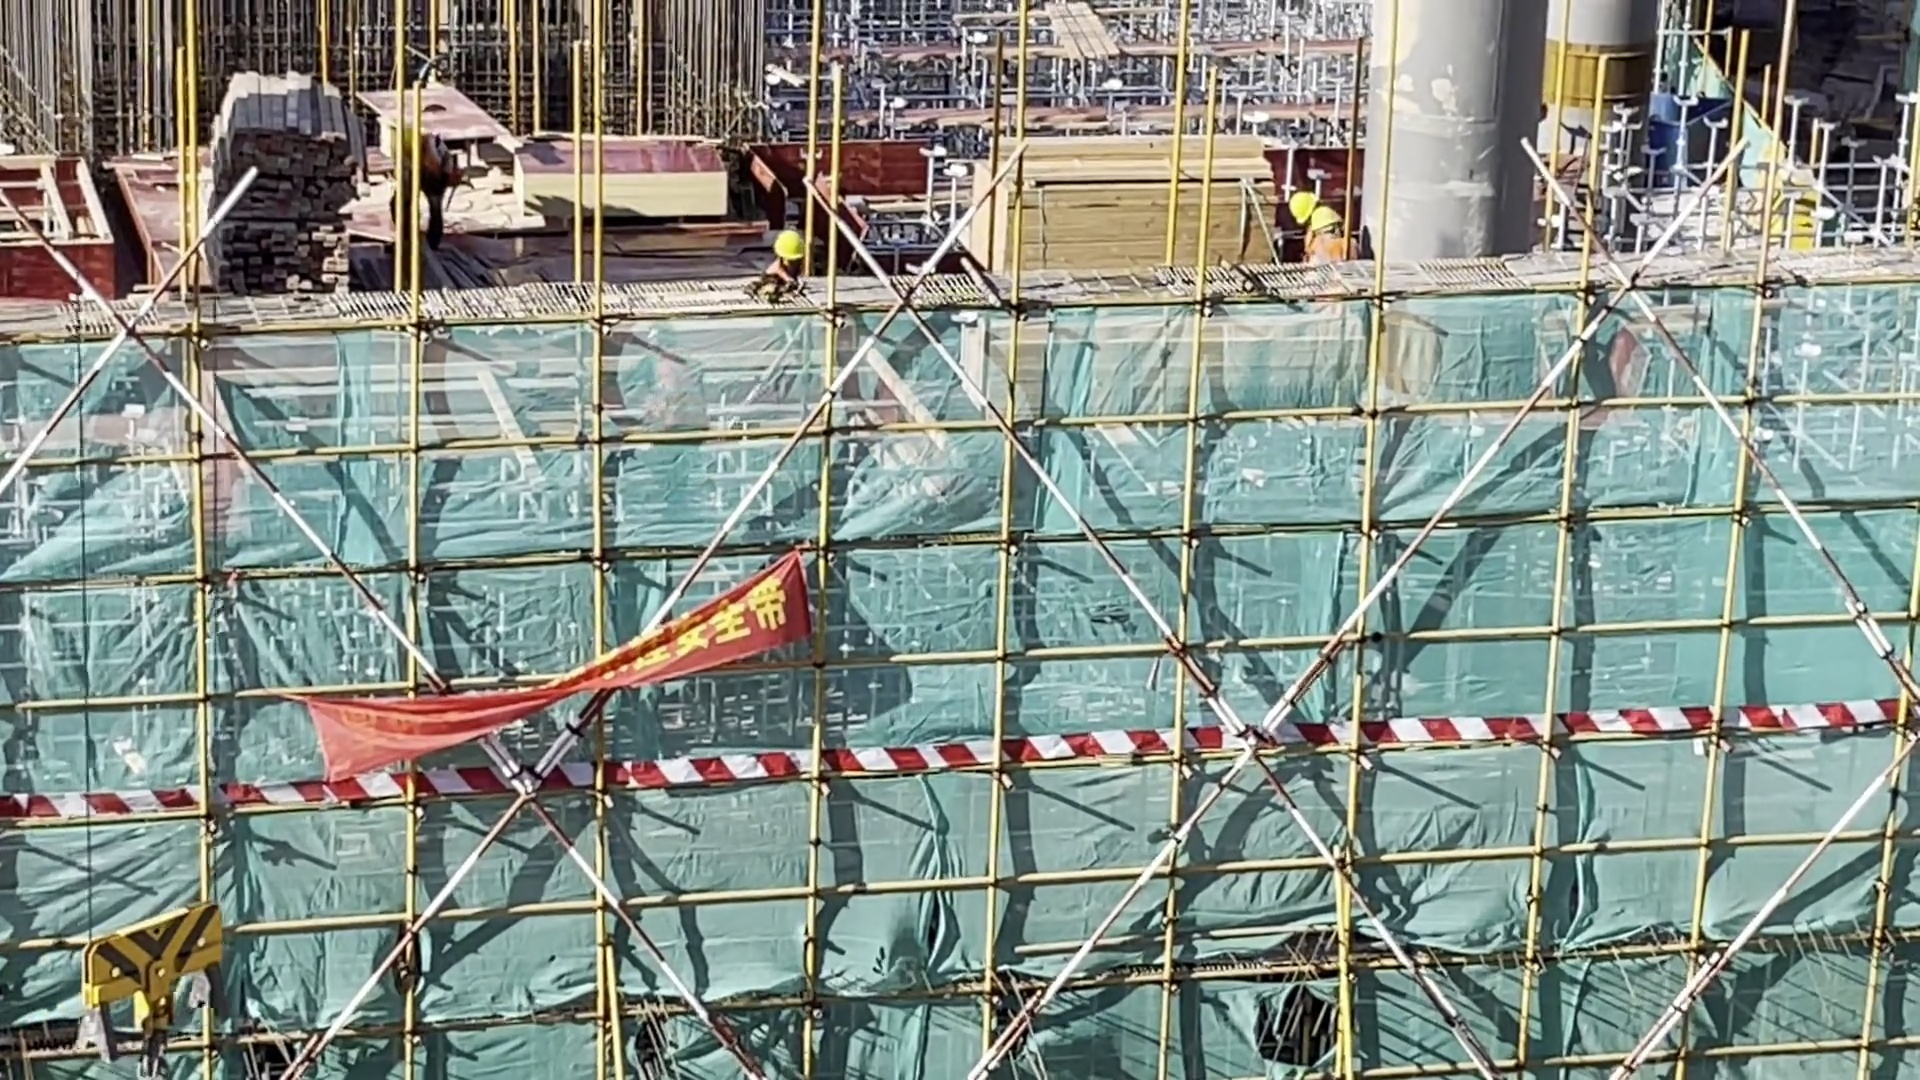helmet: (1286, 193, 1341, 233), (769, 230, 811, 266)
hopper: (1644, 79, 1744, 176)
person: (1276, 179, 1365, 283), (764, 220, 814, 285)
slogan: (292, 535, 825, 803)
wood: (966, 126, 1287, 294), (202, 66, 372, 320)
